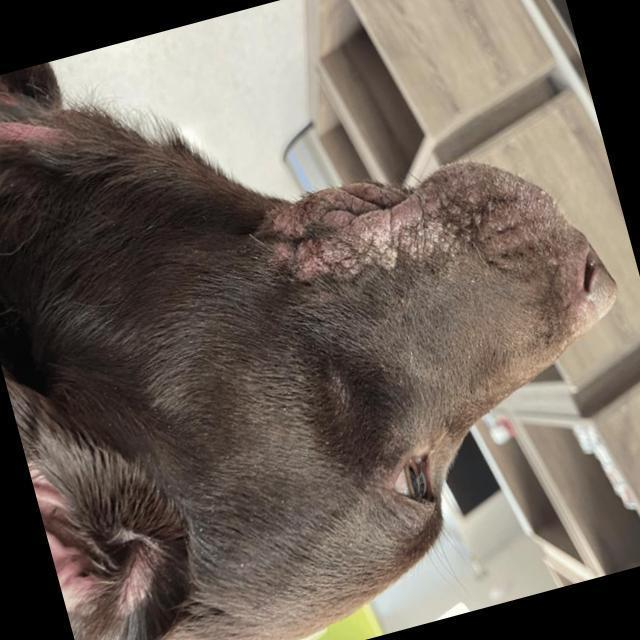mange: (273, 163, 469, 275)
